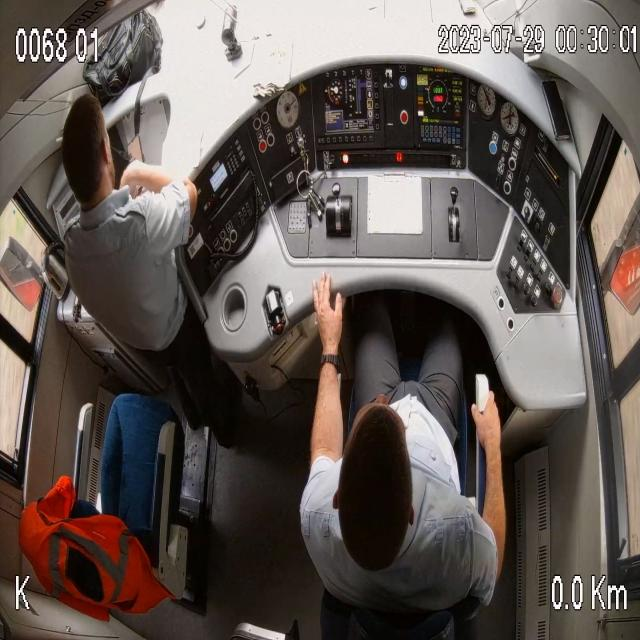smartphone: (125, 131, 147, 197)
